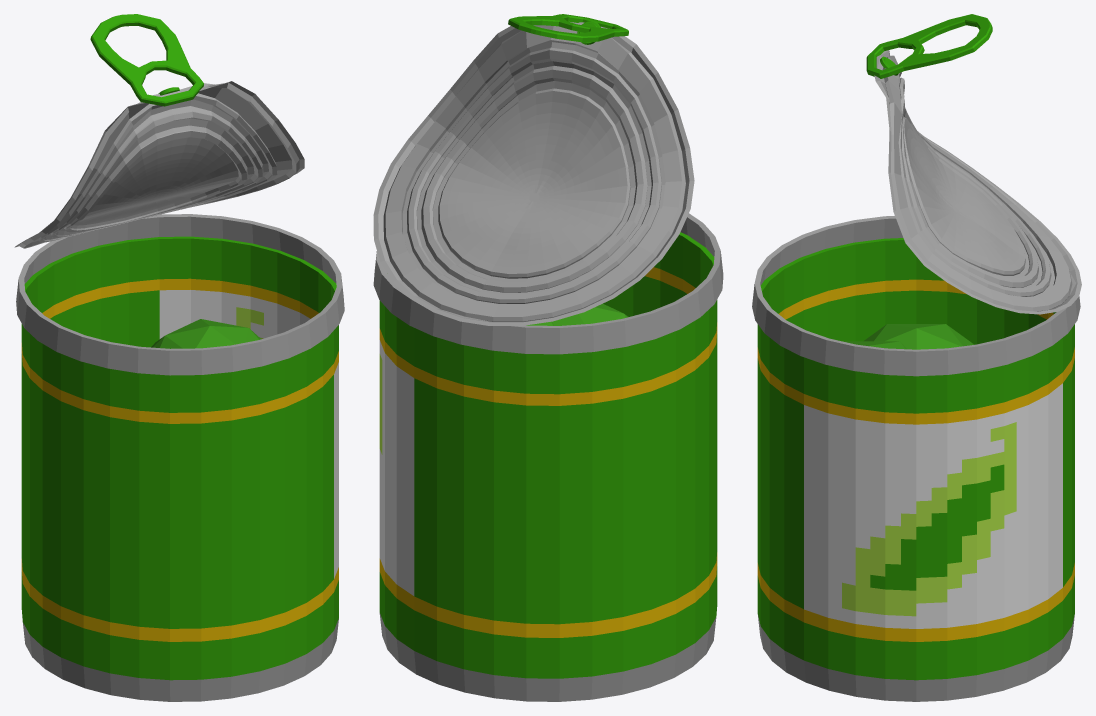
The model's file is soup_pea(open).fbx.
The picture shows the model from 3 angles, left to right: view 1: azimuth 30°, elevation 25°; view 2: azimuth 150°, elevation 25°; view 3: azimuth 270°, elevation 25°; orthographic projection. The views are drawn at different scales.
Parts seen in each view (by area): view 1: Cylinder, Cylinder.002, Cylinder.001, Icosphere.001; view 2: Cylinder, Cylinder.002, Cylinder.001, Icosphere.002; view 3: Cylinder, Cylinder.002, Cylinder.001, Icosphere.
Boxes of the visible parts, x1,y1,x2,y2 form: Cylinder: (16, 214, 344, 701); Cylinder.002: (14, 81, 304, 248); Cylinder.001: (90, 14, 203, 106); Icosphere.001: (151, 319, 260, 348); Cylinder: (373, 213, 723, 701); Cylinder.002: (373, 22, 694, 325); Cylinder.001: (508, 14, 628, 42); Icosphere.002: (551, 303, 628, 325); Cylinder: (752, 215, 1080, 701); Cylinder.002: (874, 50, 1081, 314); Cylinder.001: (866, 14, 992, 78); Icosphere: (863, 324, 974, 349).
Bounding box in the file's own units: 19.96 × 40.09 × 20.04.
